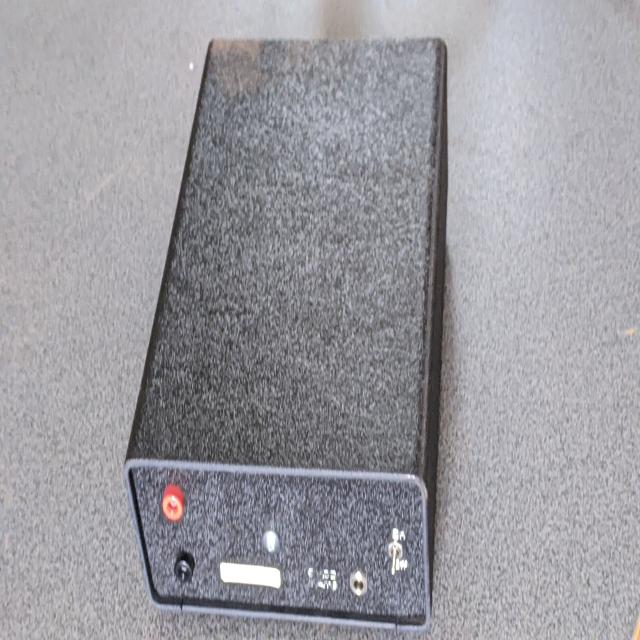SRP Digital Spark Timer: (118, 18, 484, 640)
